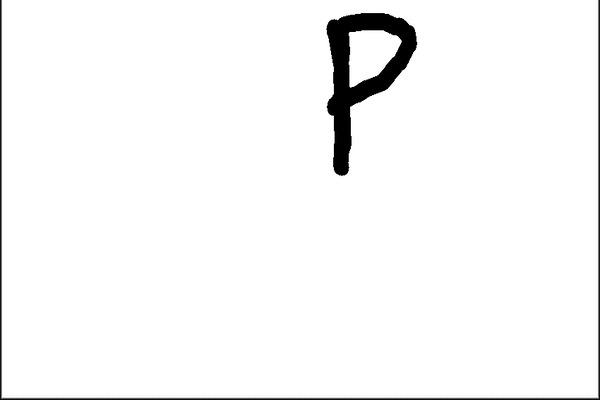P: (314, 4, 425, 179)
